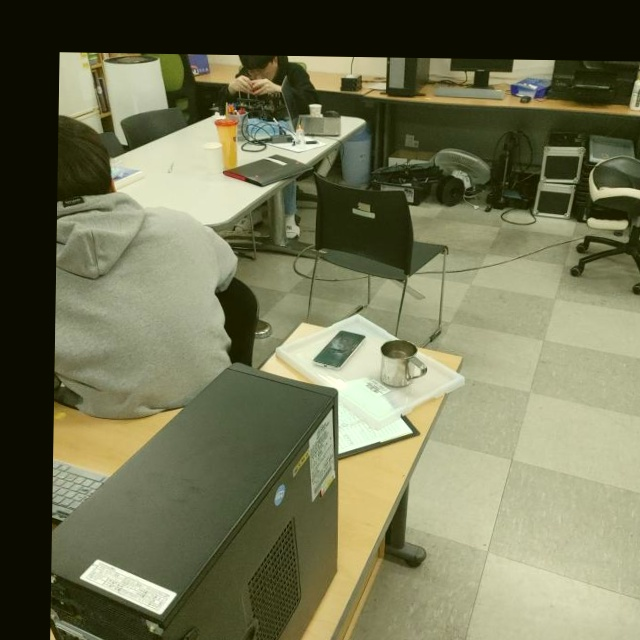cup: (377, 337, 426, 391)
phone: (311, 328, 368, 372)
